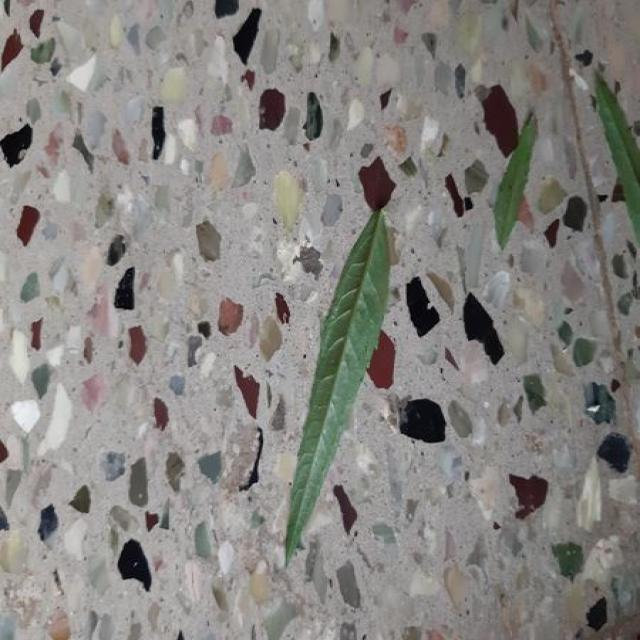marigold: (285, 210, 390, 562), (493, 116, 537, 248)
